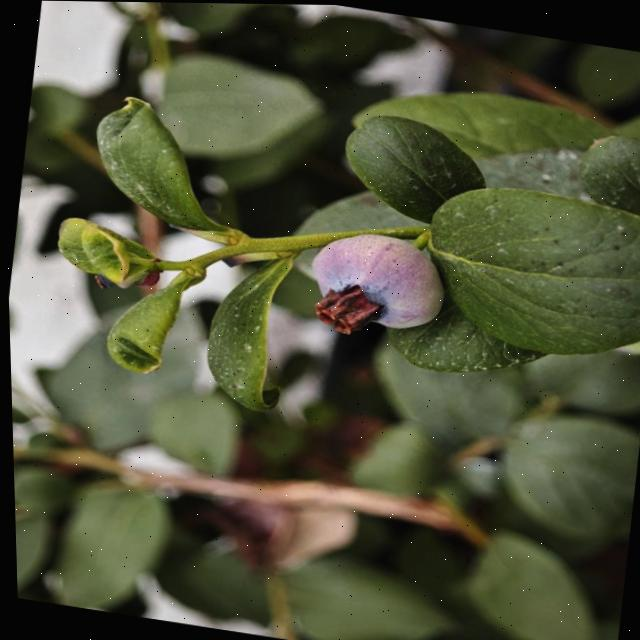Semi-RipeBlueBerry: (297, 220, 454, 337)
